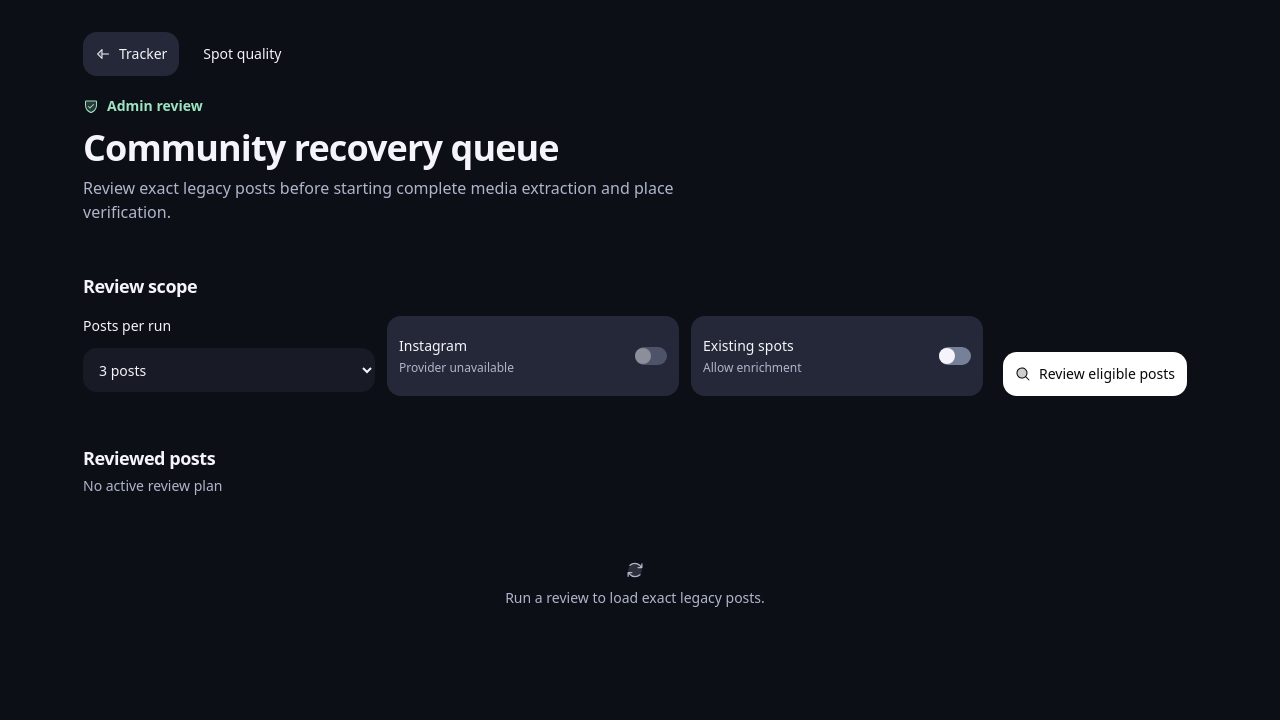
Test: SocialSubmissionRecovery › invalidates a signed review when its scope changes
The width and height of the screenshot is (1280, 720).
Click the button "Review eligible posts" at [1095, 374], box [1003,352,1187,396]
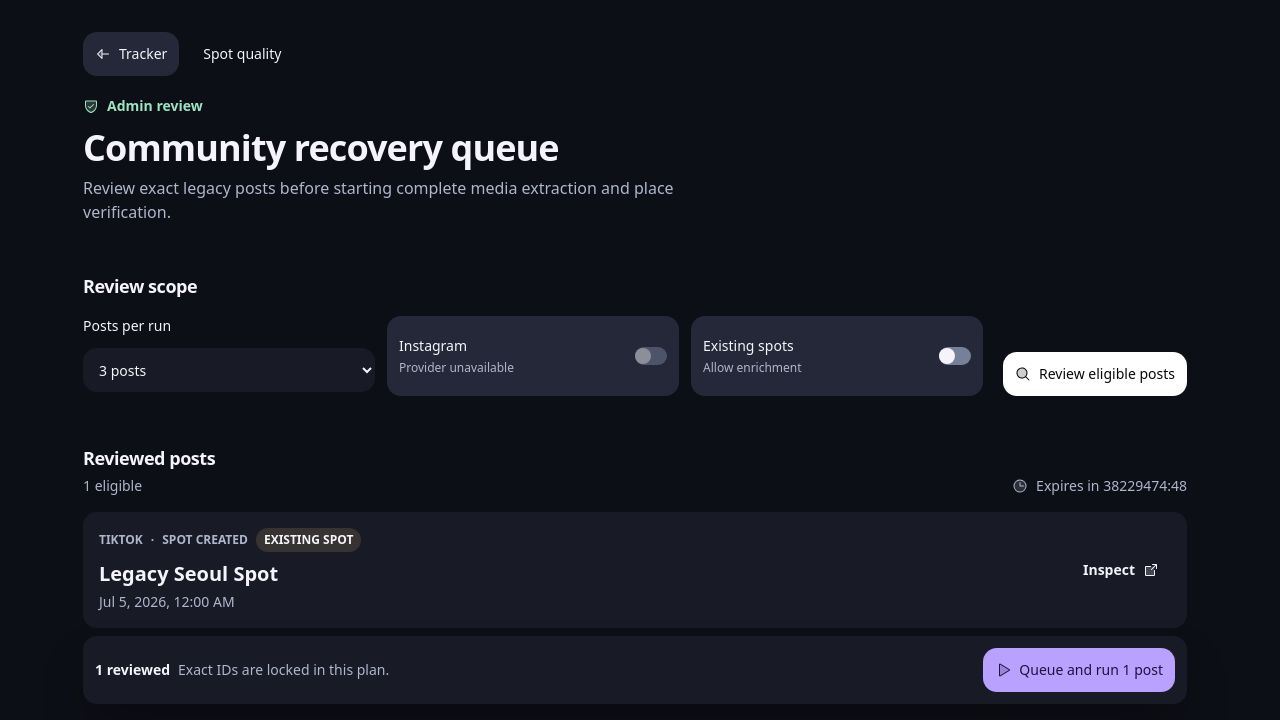
Check: the button "Queue and run 1 post" is shown, box [983,648,1175,692]
Click the switch named "Include submissions with existing spots" at [955, 356], box [939,347,971,365]
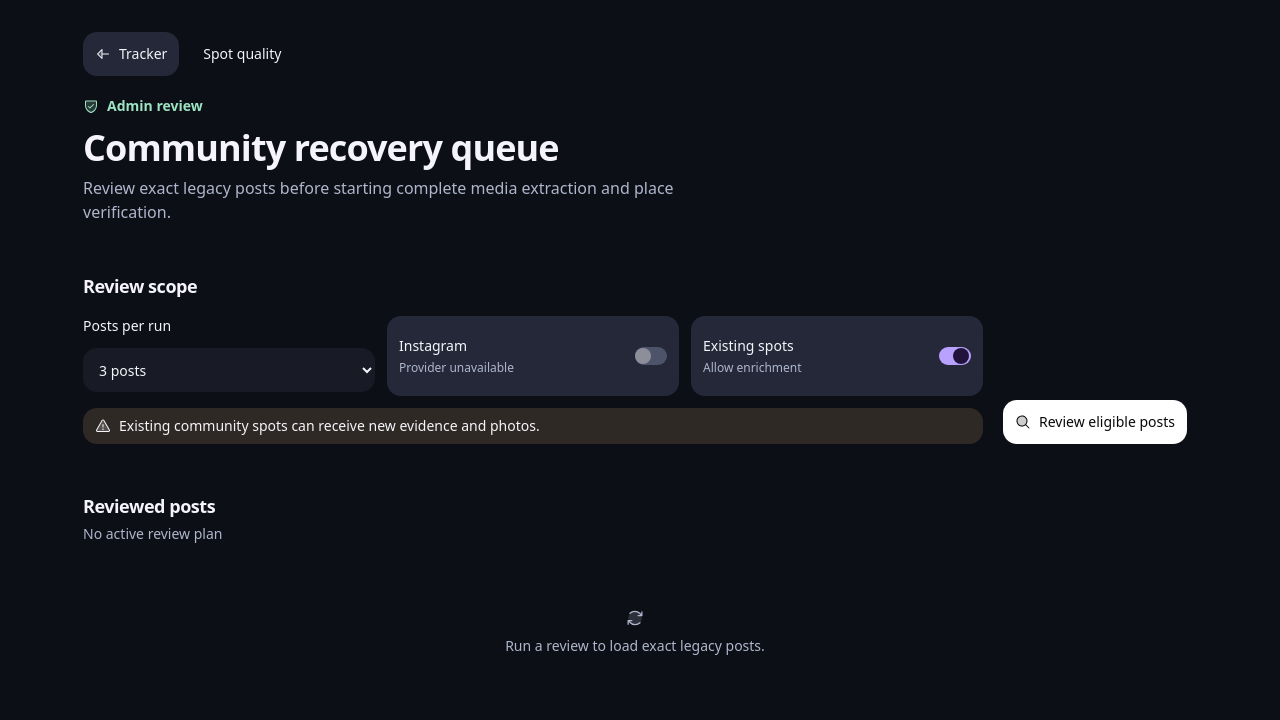
Check: the button "Queue and run 1 post" is gone
Check: the text "No active review plan" is shown, box [83,524,222,544]
